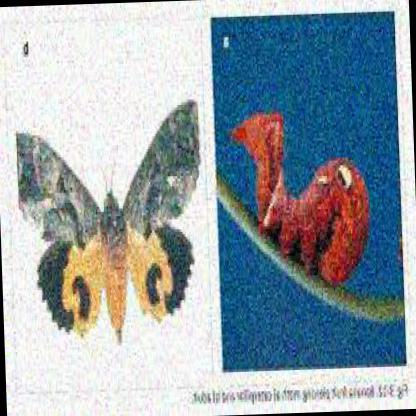fruit sucking moth: (18, 100, 200, 341)
